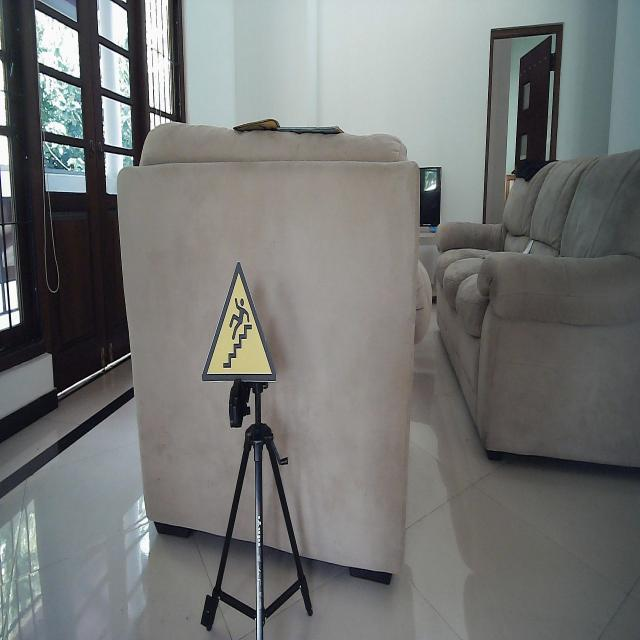stairs: (200, 258, 279, 384)
